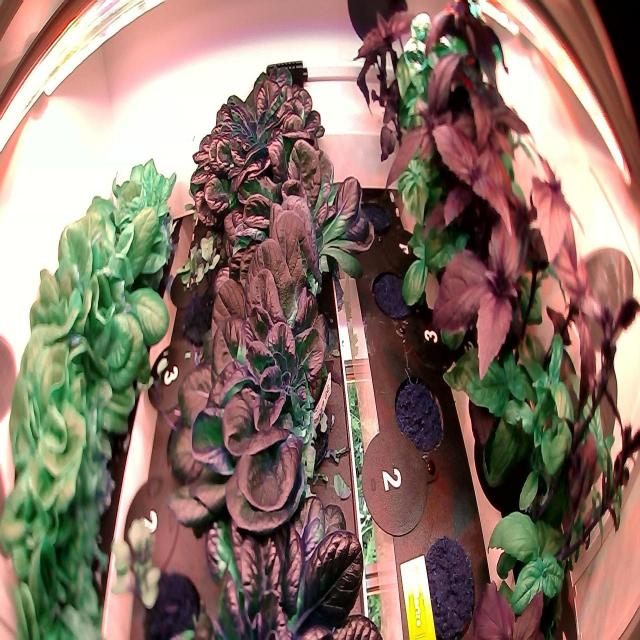Ready: (13, 204, 174, 433), (182, 54, 344, 252), (1, 341, 110, 635)
pod: (420, 532, 480, 639), (393, 372, 448, 459), (367, 258, 417, 324), (355, 176, 400, 245)
young: (145, 202, 375, 528), (133, 475, 392, 640), (202, 126, 381, 315), (103, 153, 180, 252)
